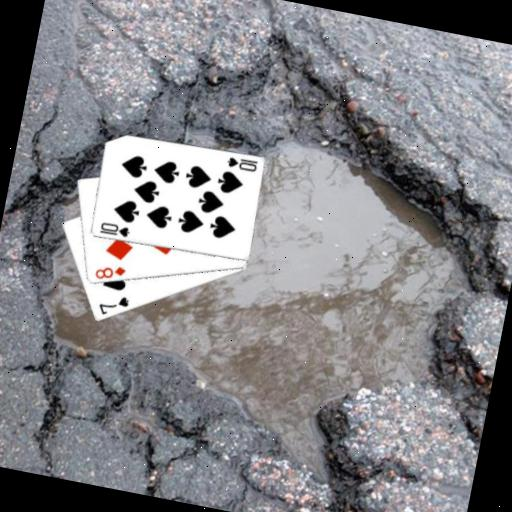10S: (96, 218, 132, 240), (223, 153, 260, 174)
7S: (94, 290, 132, 321)
8D: (91, 259, 128, 286)
